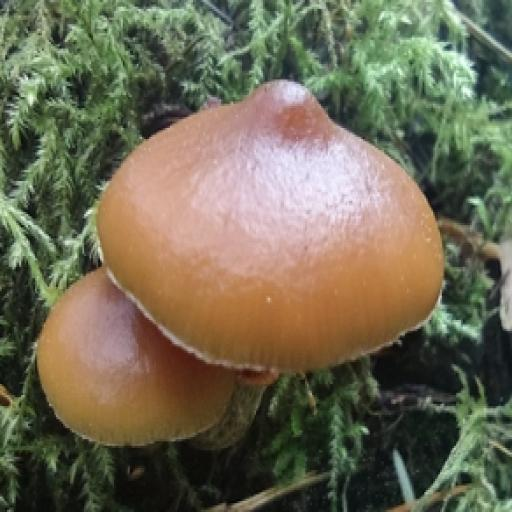Funeral Bell: (30, 78, 448, 451)
